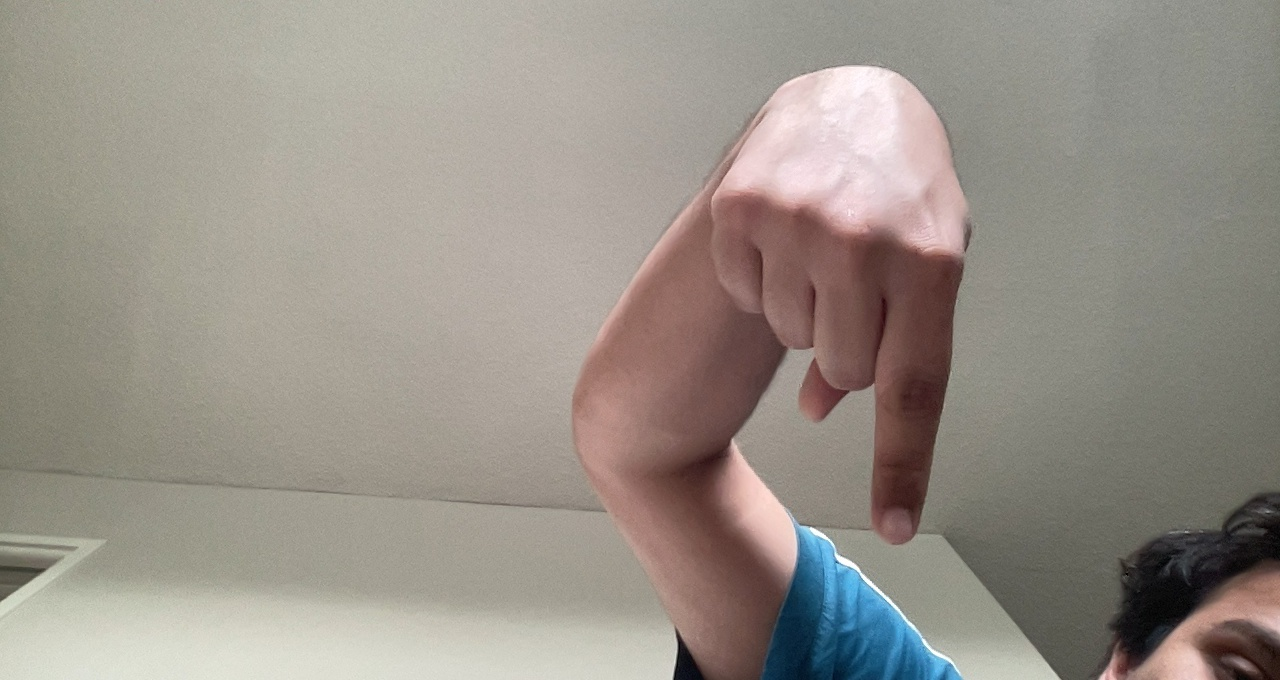fingerdown: (707, 56, 982, 548)
